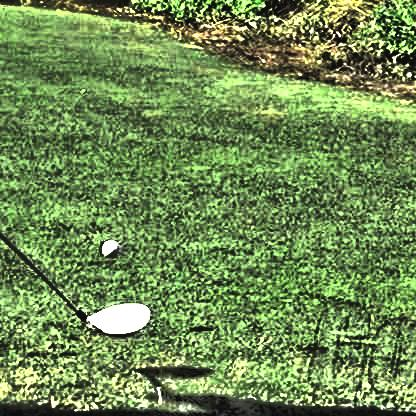golfball: (98, 237, 119, 257)
